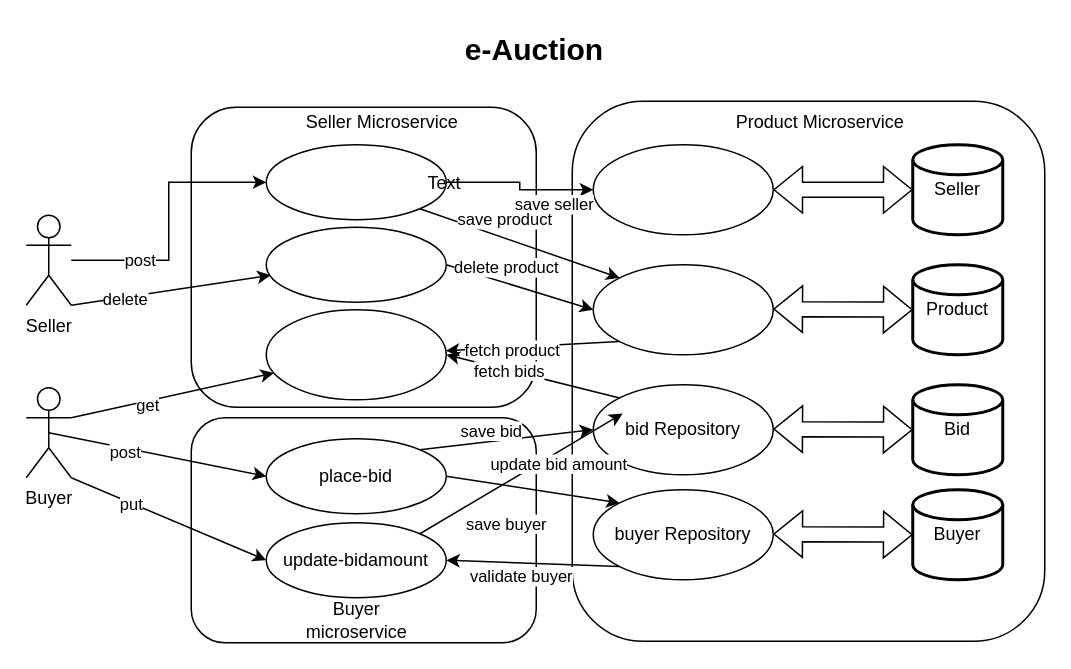
Some shapes in this 1071 by 669 pixel diagram are drawn without their labels. Each missing label, with the box of its shape:
add-product: (265, 143, 446, 220)
delete-product: (265, 226, 446, 302)
product Repository: (592, 263, 773, 355)
seller Repository: (592, 143, 773, 235)
show-bids: (265, 308, 446, 400)
